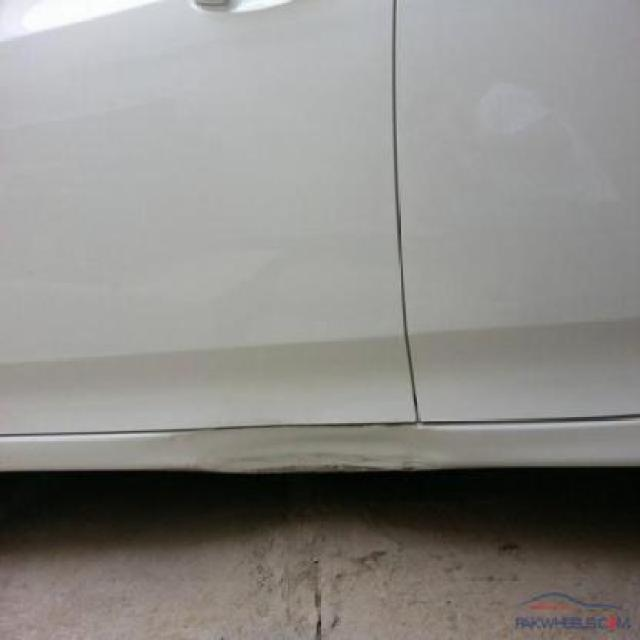RunningBoard-Dent: (103, 409, 487, 493)
